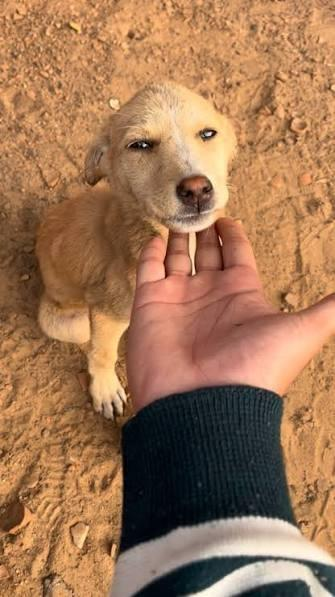non-dog: (112, 215, 335, 597)
puppy-dog: (30, 81, 239, 425)
